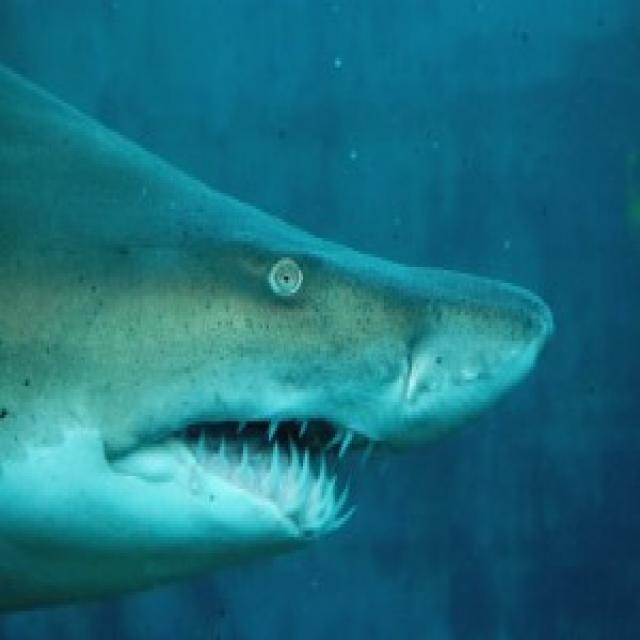Shark: (2, 52, 556, 582)
